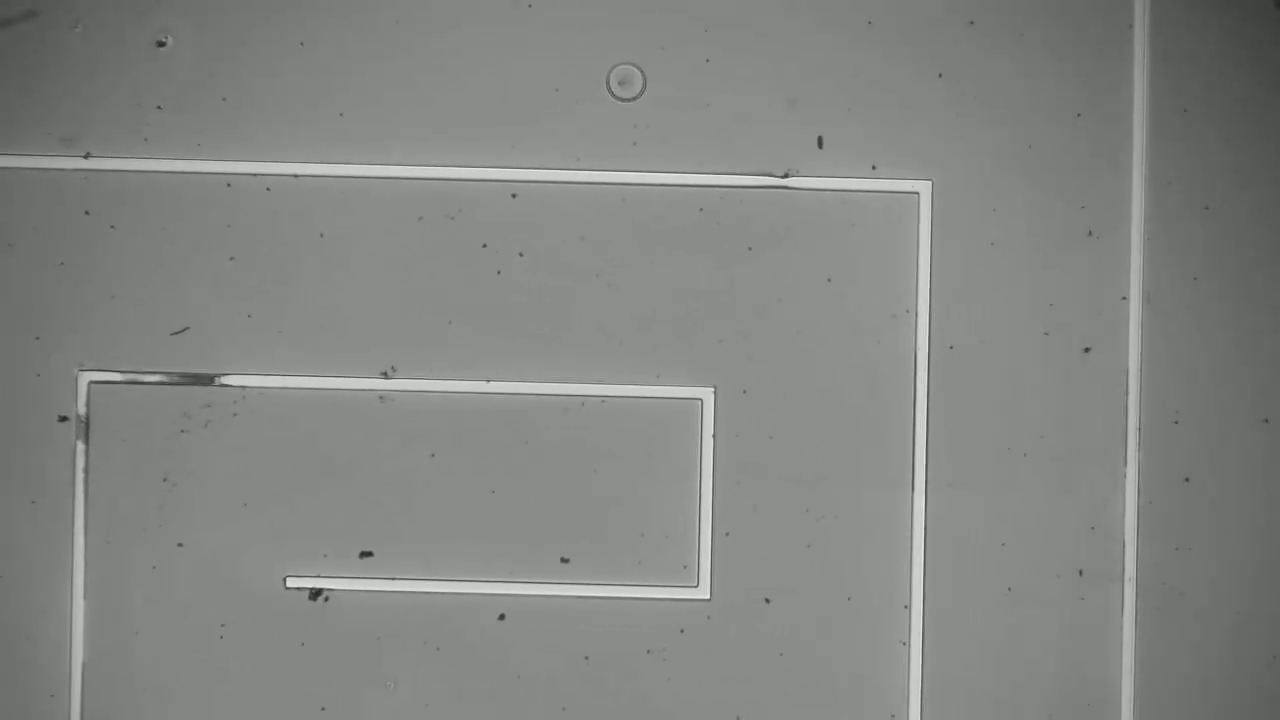gray_line: (138, 352, 247, 409), (61, 397, 110, 464)
